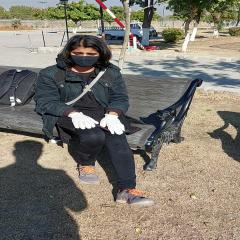gloved: (100, 114, 126, 134), (70, 113, 98, 129)
